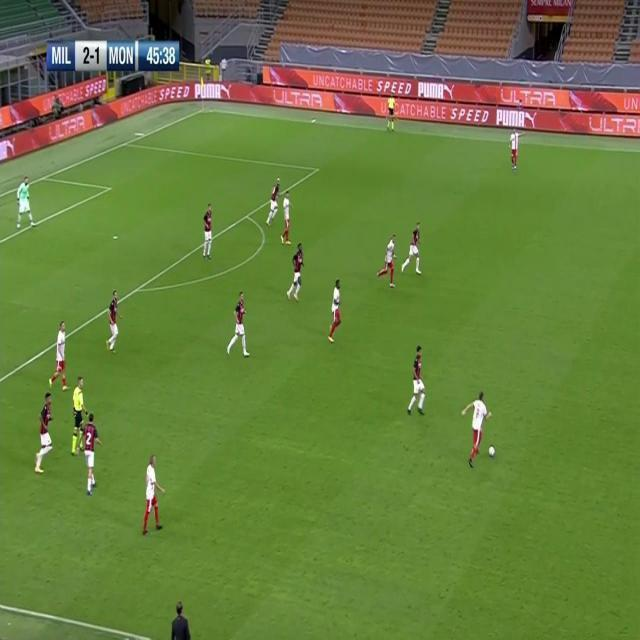ball: (489, 444, 496, 457)
goalkeeper: (16, 173, 35, 229)
player: (461, 390, 491, 464), (141, 454, 165, 534), (33, 393, 56, 475), (83, 414, 103, 494), (406, 345, 428, 416), (227, 290, 249, 358), (49, 319, 69, 391), (402, 223, 423, 277), (326, 278, 343, 342), (377, 233, 397, 287), (286, 245, 304, 303), (105, 290, 121, 353), (201, 202, 214, 260), (266, 176, 281, 226), (280, 189, 293, 246), (509, 128, 519, 171)
referee: (69, 374, 88, 454), (386, 93, 397, 133)
